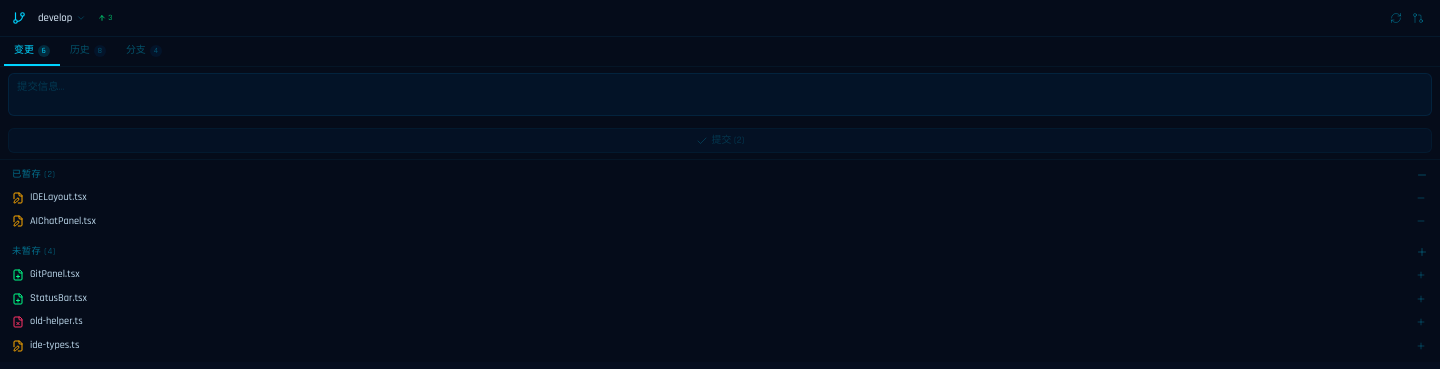
Test: GitPanel › 变更管理 › 全部取消暂存后已暂存分组消失
Click the button without text in the row of "已暂存". click: (1422, 175)
box: [1416,169,1428,181]
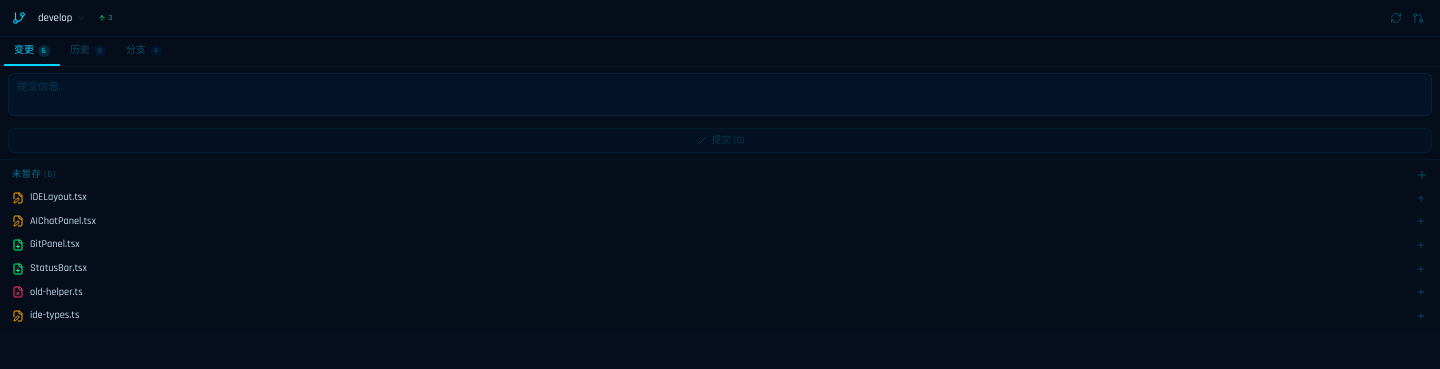
Check: the text "已暂存" is gone
